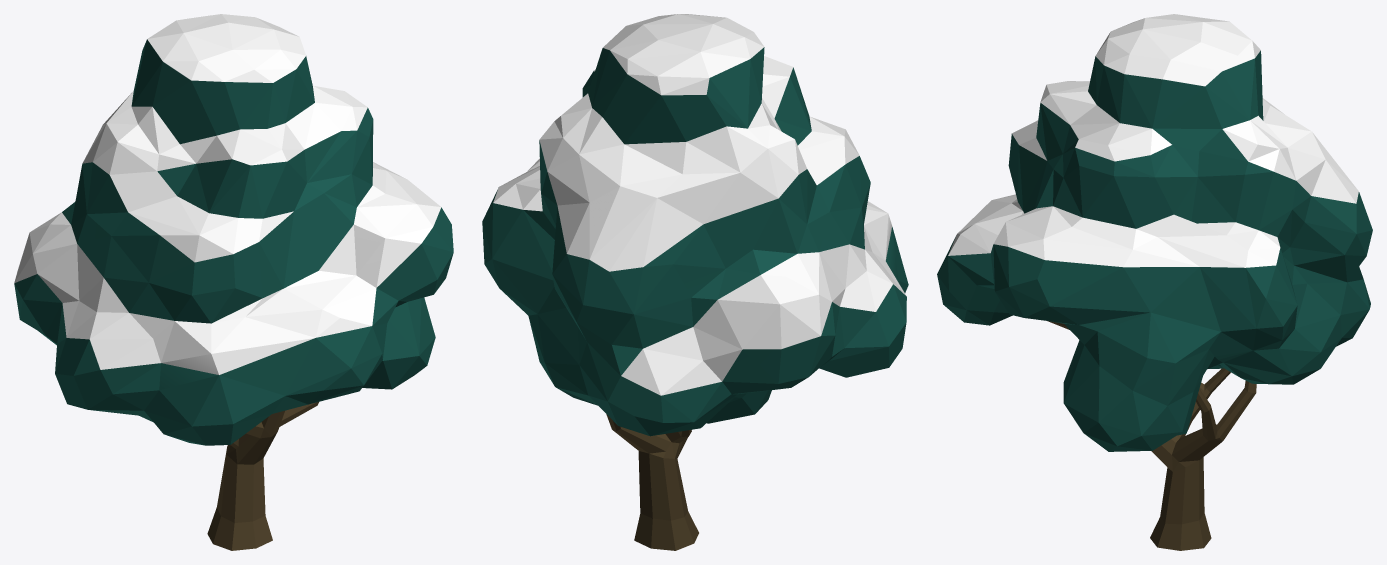
The model's file is Tree.fbx.
3 renders of one model, left to right at view 1: azimuth 30°, elevation 25°; view 2: azimuth 150°, elevation 25°; view 3: azimuth 270°, elevation 25°, orthographic. The views are drawn at different scales.
Visible parts, largest first — view 1: Tree; view 2: Tree; view 3: Tree.
Boxes of the visible parts, x1,y1,x2,y2 form: Tree: (14,14,453,550); Tree: (482,14,908,550); Tree: (937,14,1372,550).
Size of the model in its own units: 5.9 by 7.86 by 6.26.
